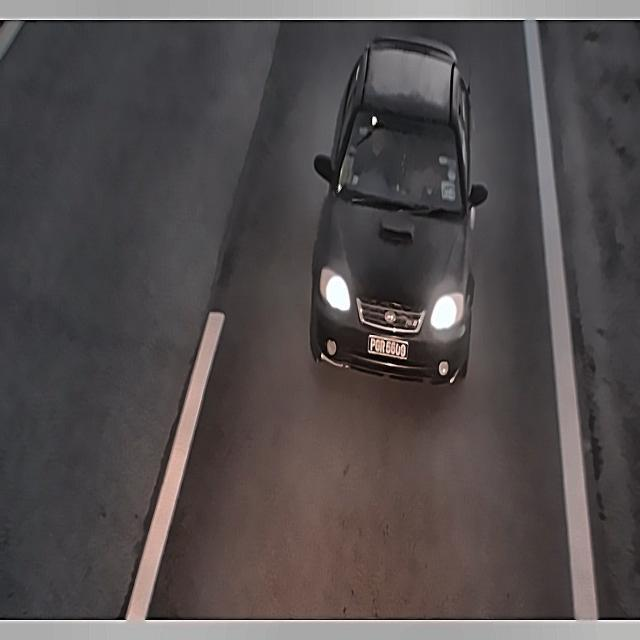car: (364, 324, 413, 369)
